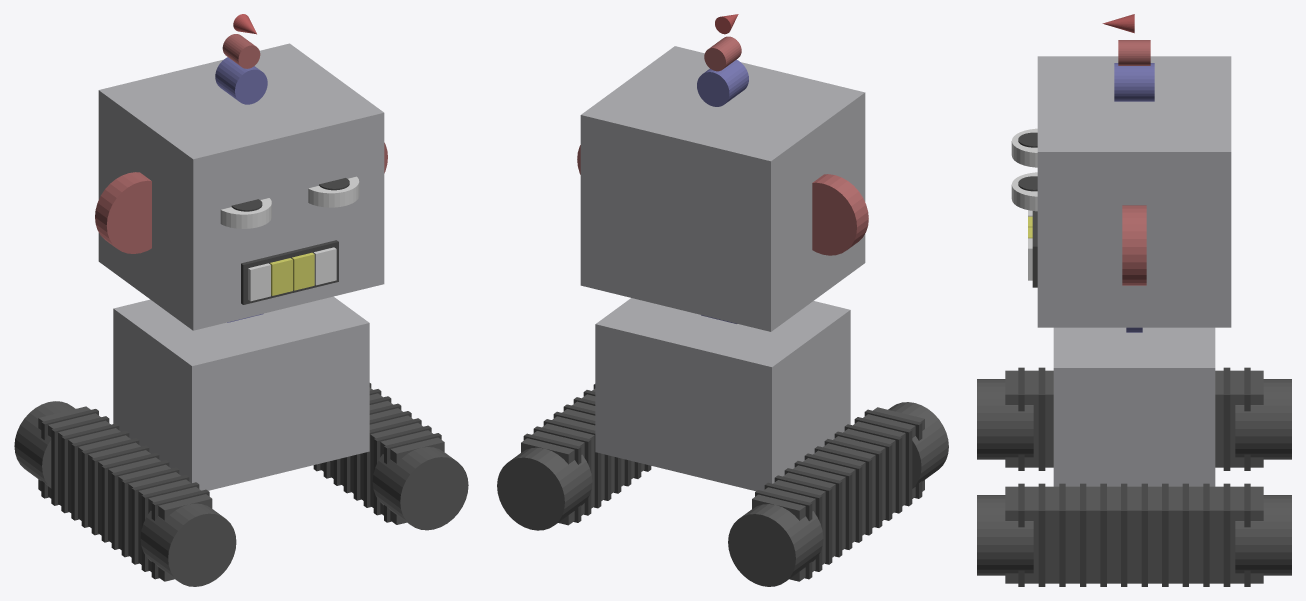
The model's file is robot.glb.
The picture shows the model from 3 angles, left to right: view 1: azimuth 30°, elevation 25°; view 2: azimuth 150°, elevation 25°; view 3: azimuth 270°, elevation 25°; orthographic projection. The views are drawn at different scales.
Visible parts, largest first — view 1: world; view 2: world; view 3: world.
Part boxes in pixels (x1,y1,x2,y2): world: (14,14,468,586); world: (497,14,948,586); world: (977,14,1291,586).
Size of the model in its own units: 2.2 by 3.42 by 1.95.
